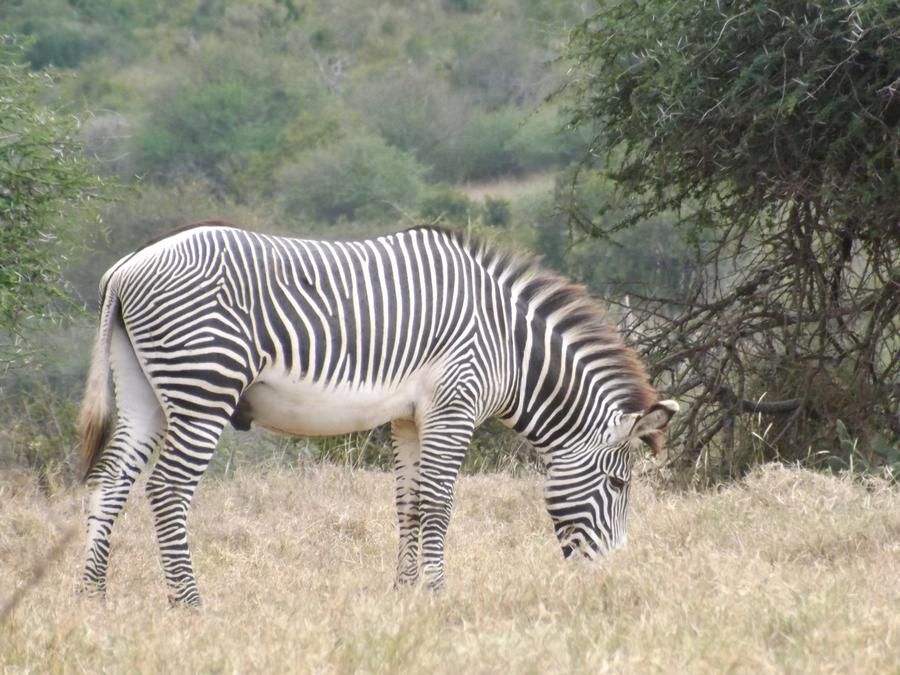zebra_grevys: (88, 208, 474, 438)
